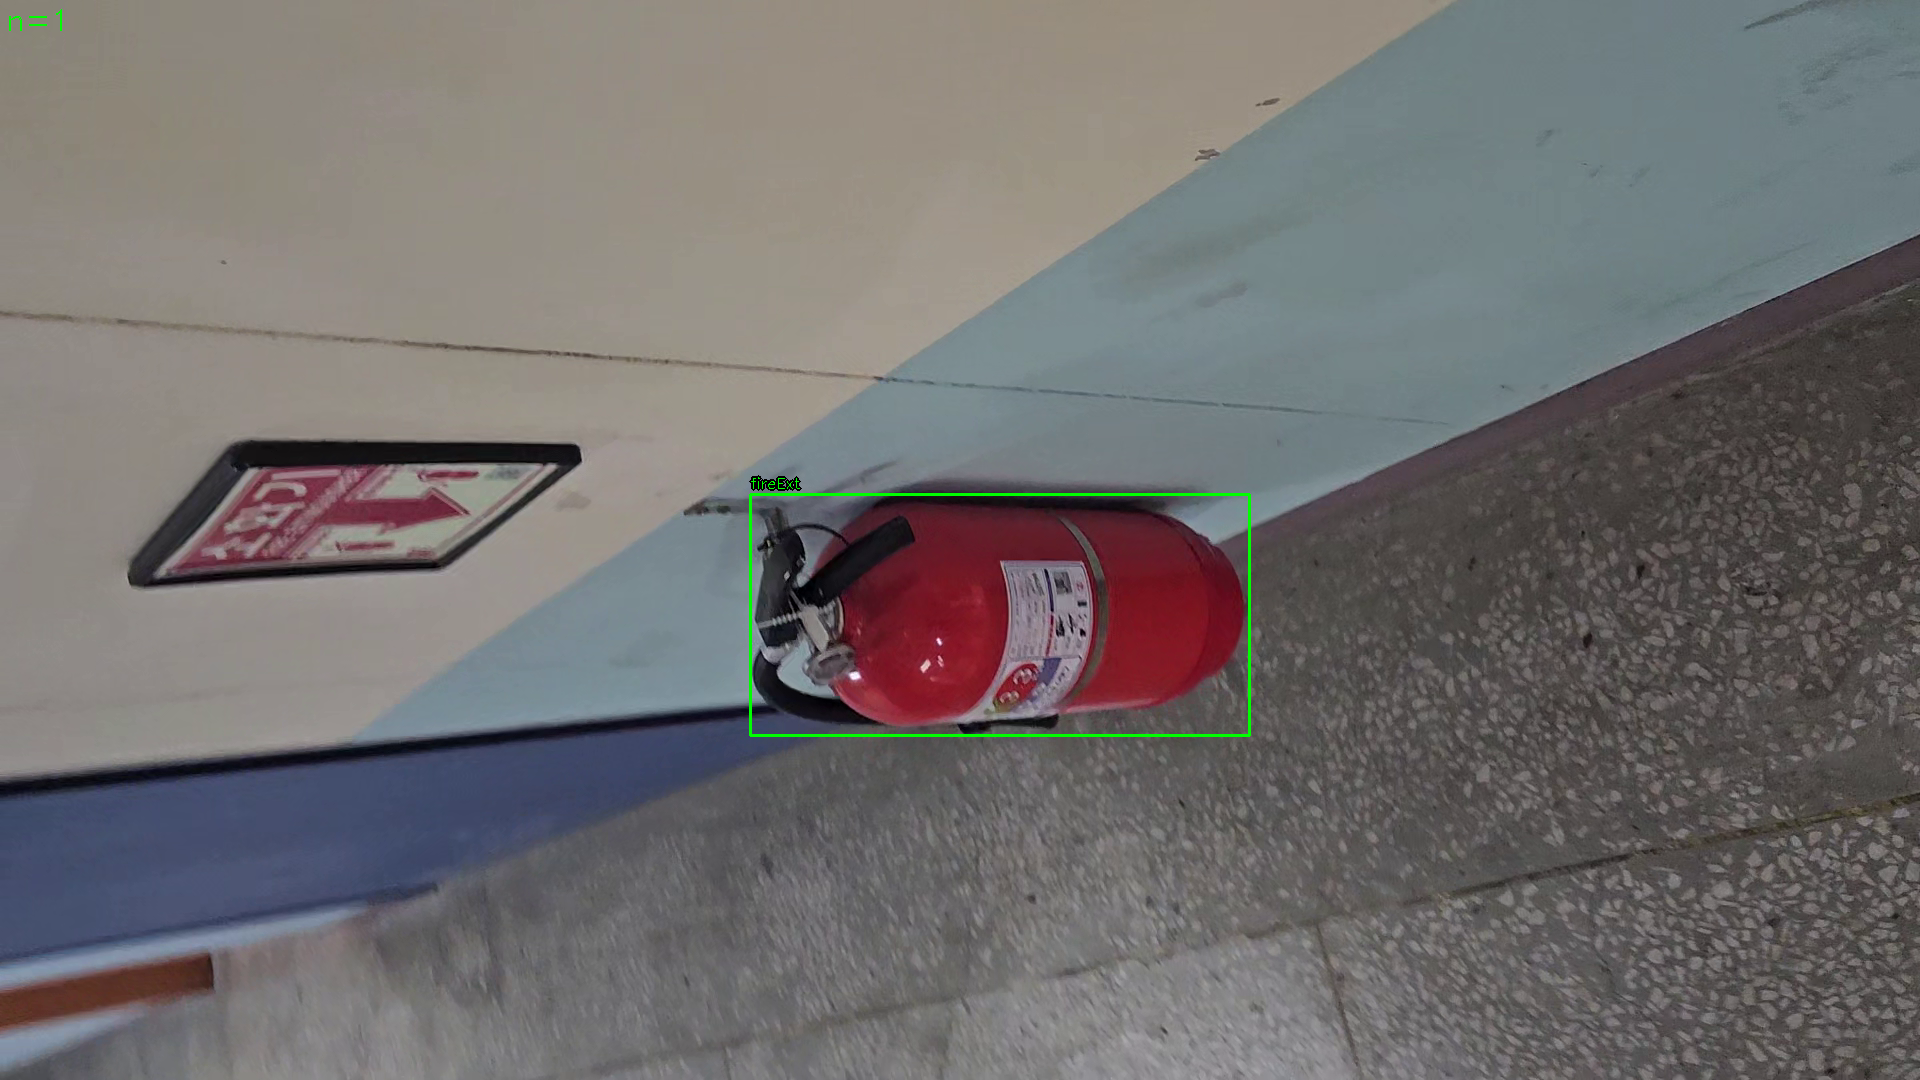lane: (750, 495, 1250, 736)
